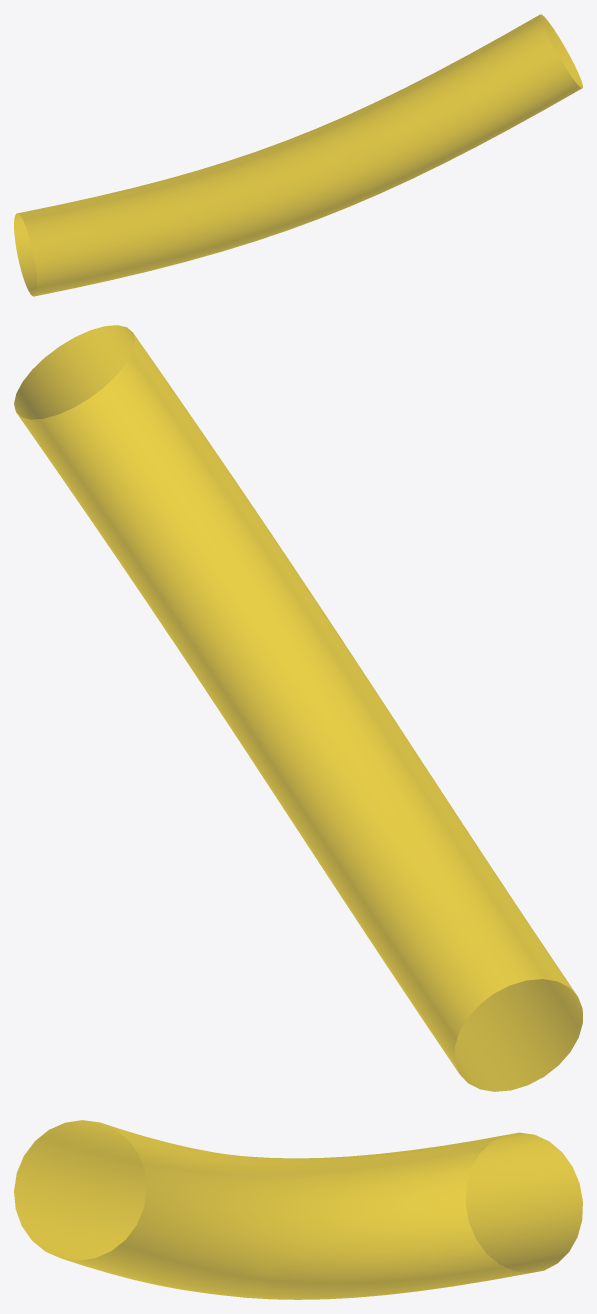
Rendered from Event_27938768_track_56.fbx.
3 views of the same model, one above another, from view 1: azimuth 30°, elevation 25°; view 2: azimuth 150°, elevation 25°; view 3: azimuth 270°, elevation 25° (orthographic). The views are drawn at different scales.
Parts seen in each view (by area): view 1: Model; view 2: Model; view 3: Model.
Boxes of the visible parts, bbox=[...] form: Model: bbox=[14, 14, 582, 296]; Model: bbox=[14, 325, 582, 1091]; Model: bbox=[14, 1120, 582, 1299].
Bounding box in the file's own units: 0.2416 × 0.1419 × 0.1609.
